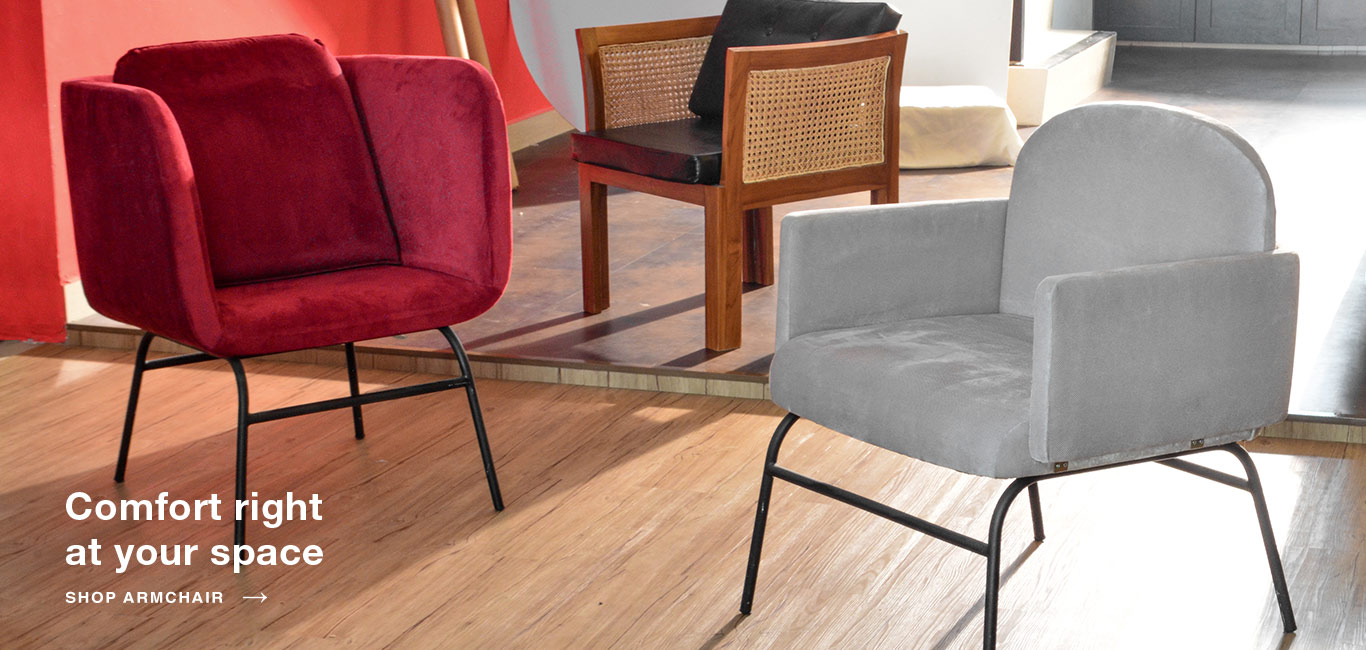kursi: (755, 102, 1301, 642), (53, 29, 510, 542), (570, 2, 889, 336)
